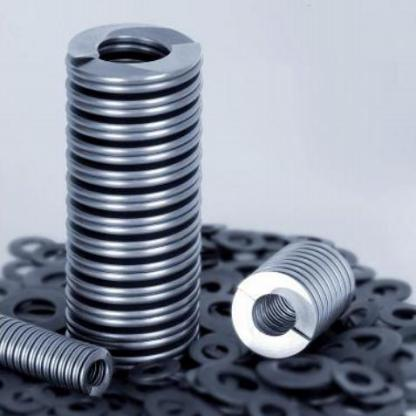FOD: (58, 20, 209, 366), (227, 236, 359, 365), (0, 312, 115, 401)
